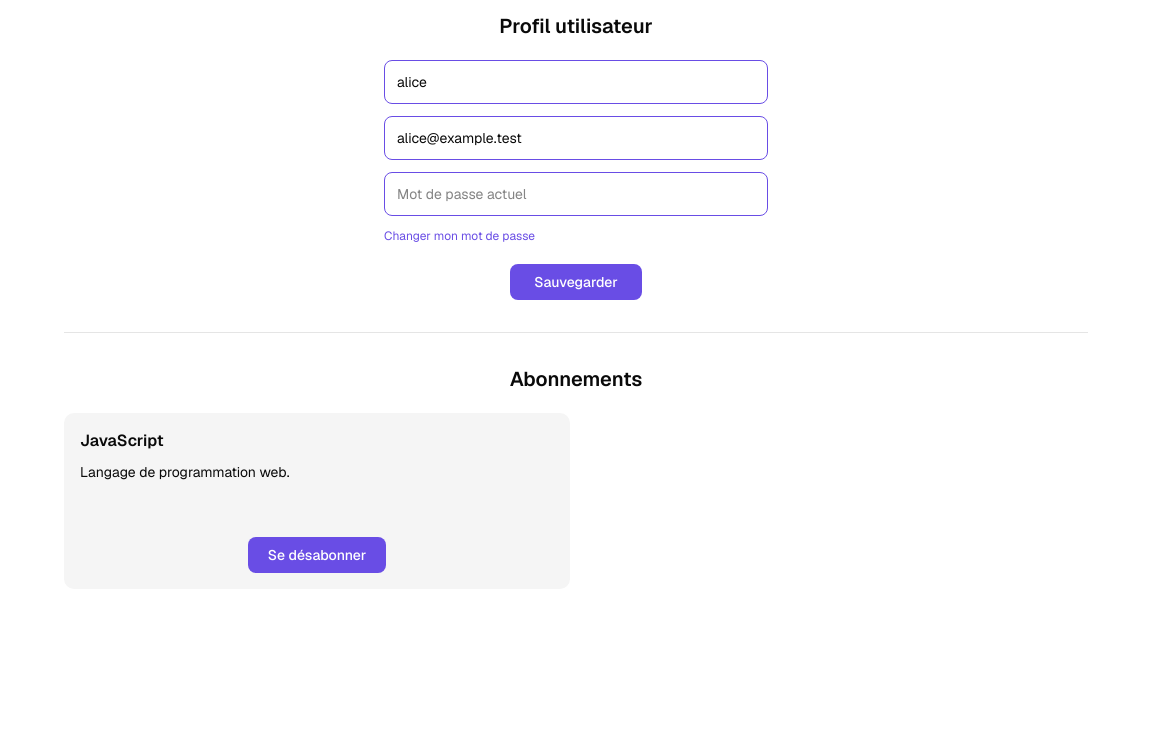
Test: ProfilePage › permet de se désabonner depuis le profil
Click the button "Se désabonner": (317, 555) [248,537,386,573]
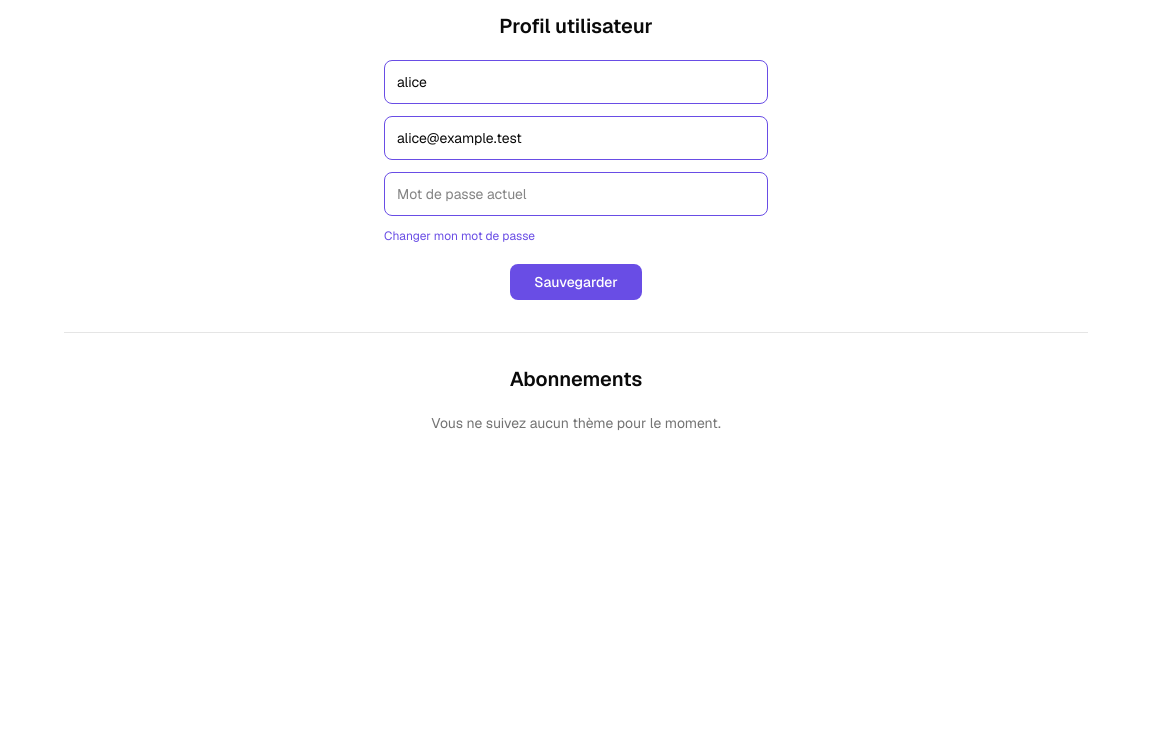
expect the text "Vous ne suivez aucun thème pour le moment." is shown: met, box [431,414,721,432]
expect the heading "JavaScript" is gone: met
